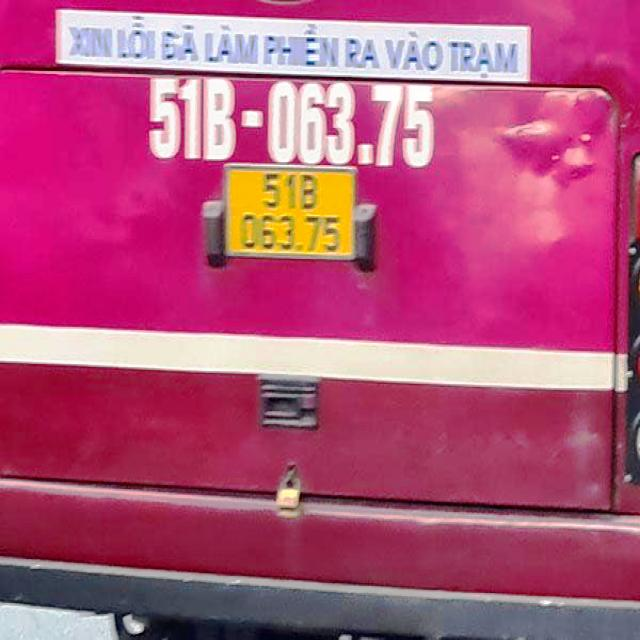license_plate: (225, 165, 357, 260)
